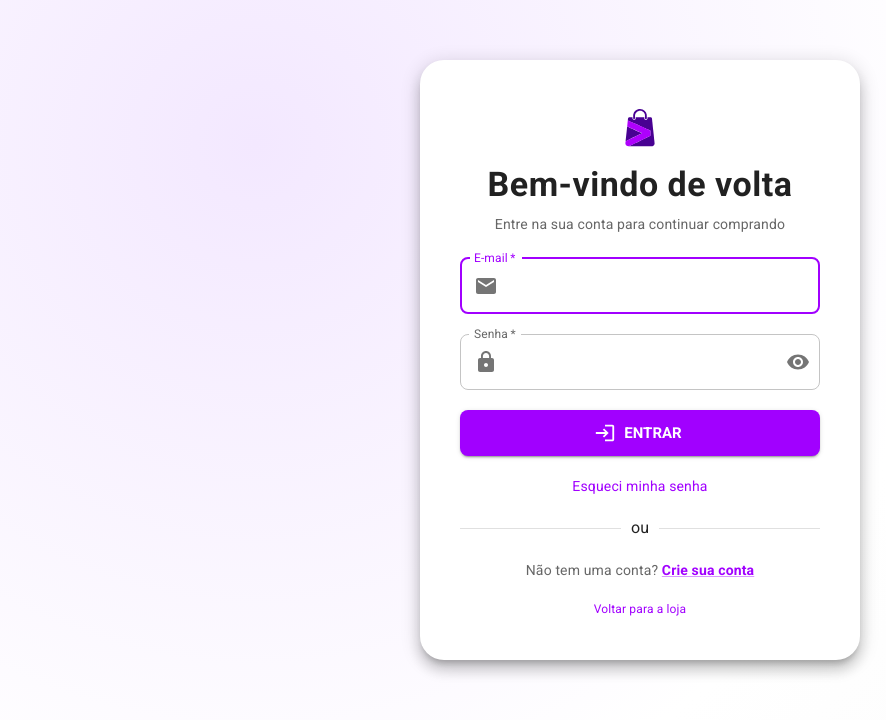
it: Login › valida email vazio
Click the button "Entrar" at (640, 433), box [460,410,820,456]
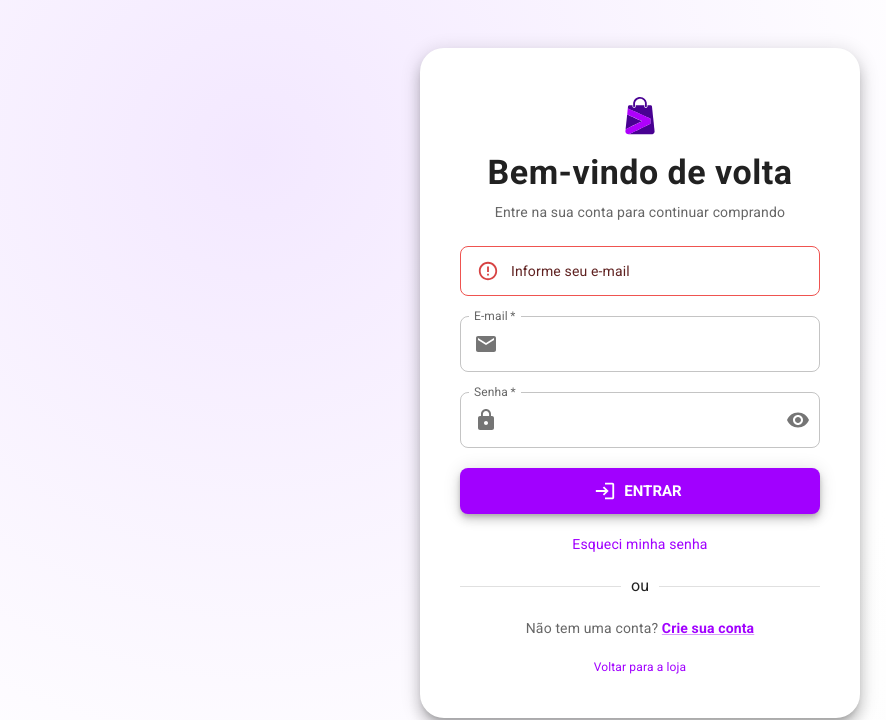
Expected: the text "Informe seu e-mail" is shown, [511,263,630,279]
